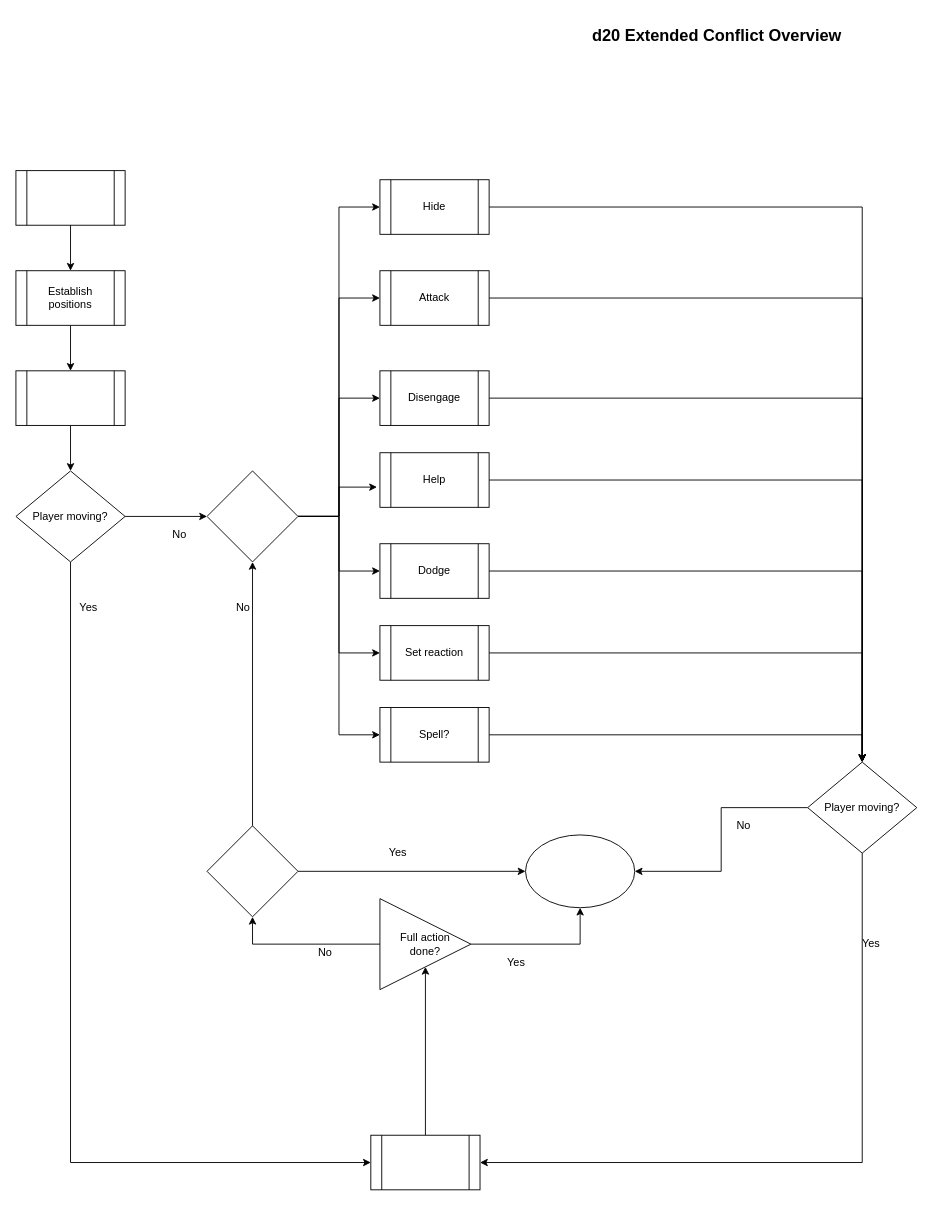
The diagram is 933 pixels wide and 1206 high, and some of its shapes have lost their labels. Here are the shapes that lost their labels. From the top down, the centre of each, then its label:
At pixel 70 197: "Determining surprise".
At pixel 70 397: "Combat initiative process".
At pixel 252 516: "Player chooses action".
At pixel 252 871: "Player only moving".
At pixel 580 871: "End turn".
At pixel 425 1162: "Move".
